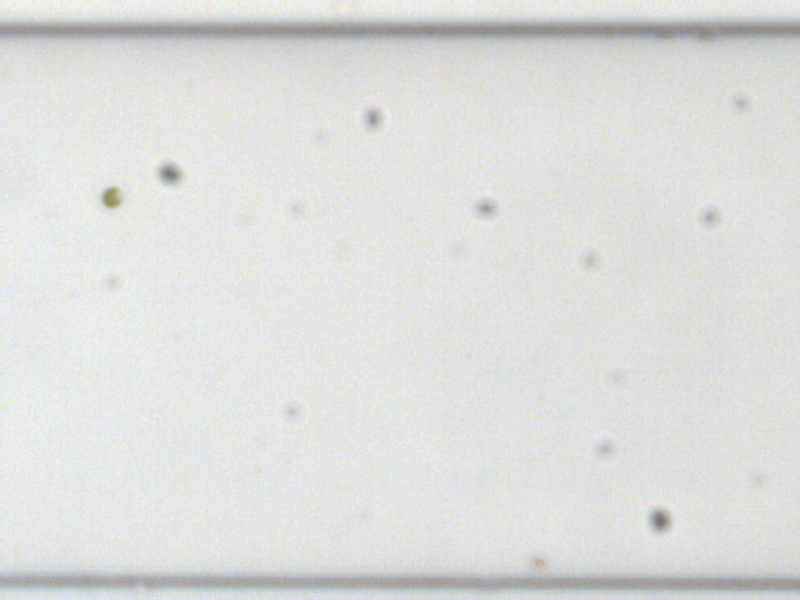Chlorella: (99, 184, 123, 210), (532, 556, 545, 570)
